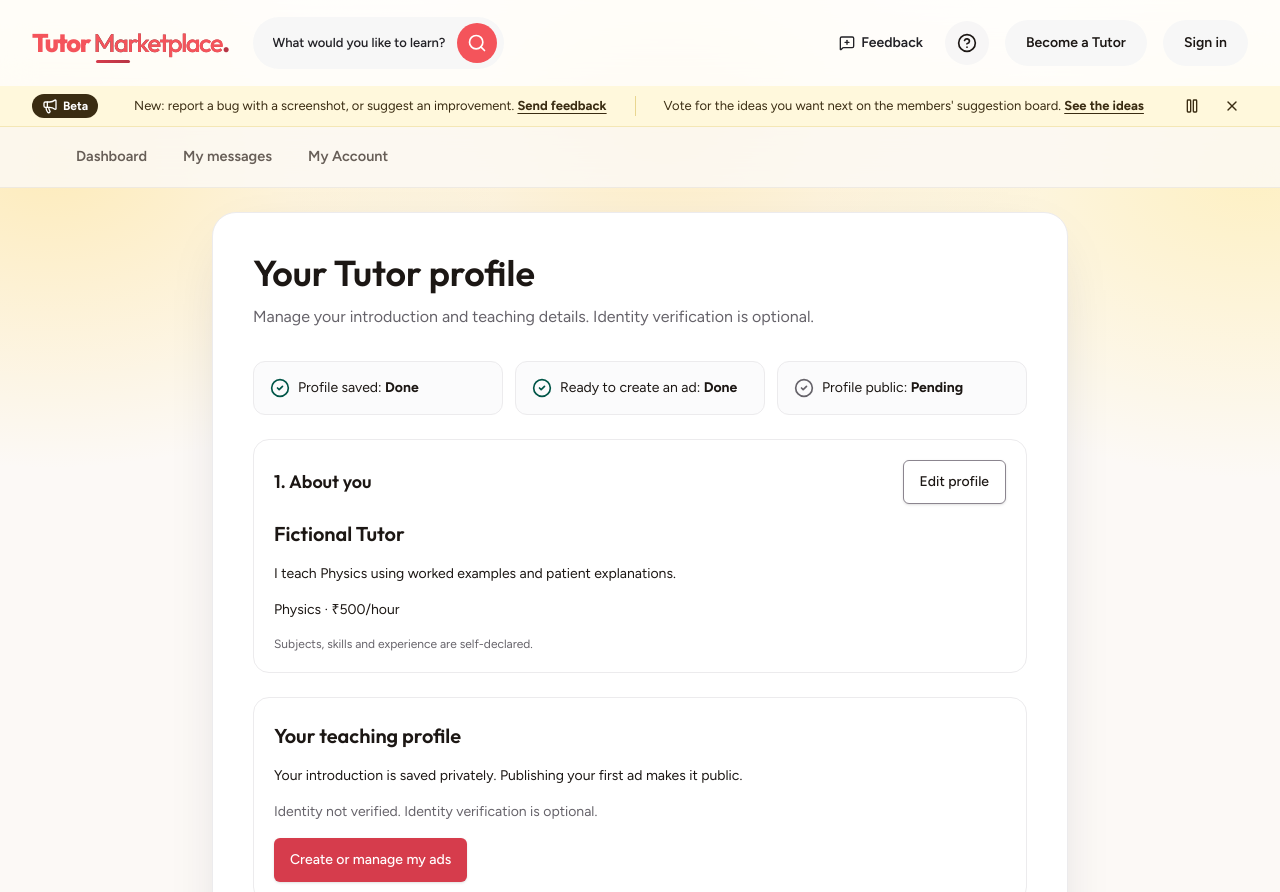
Test: keeps the editor open when a slower duplicate profile load finishes after Edit profile
Click the button "Edit profile".
click(954, 482)  # box [902,460,1006,504]
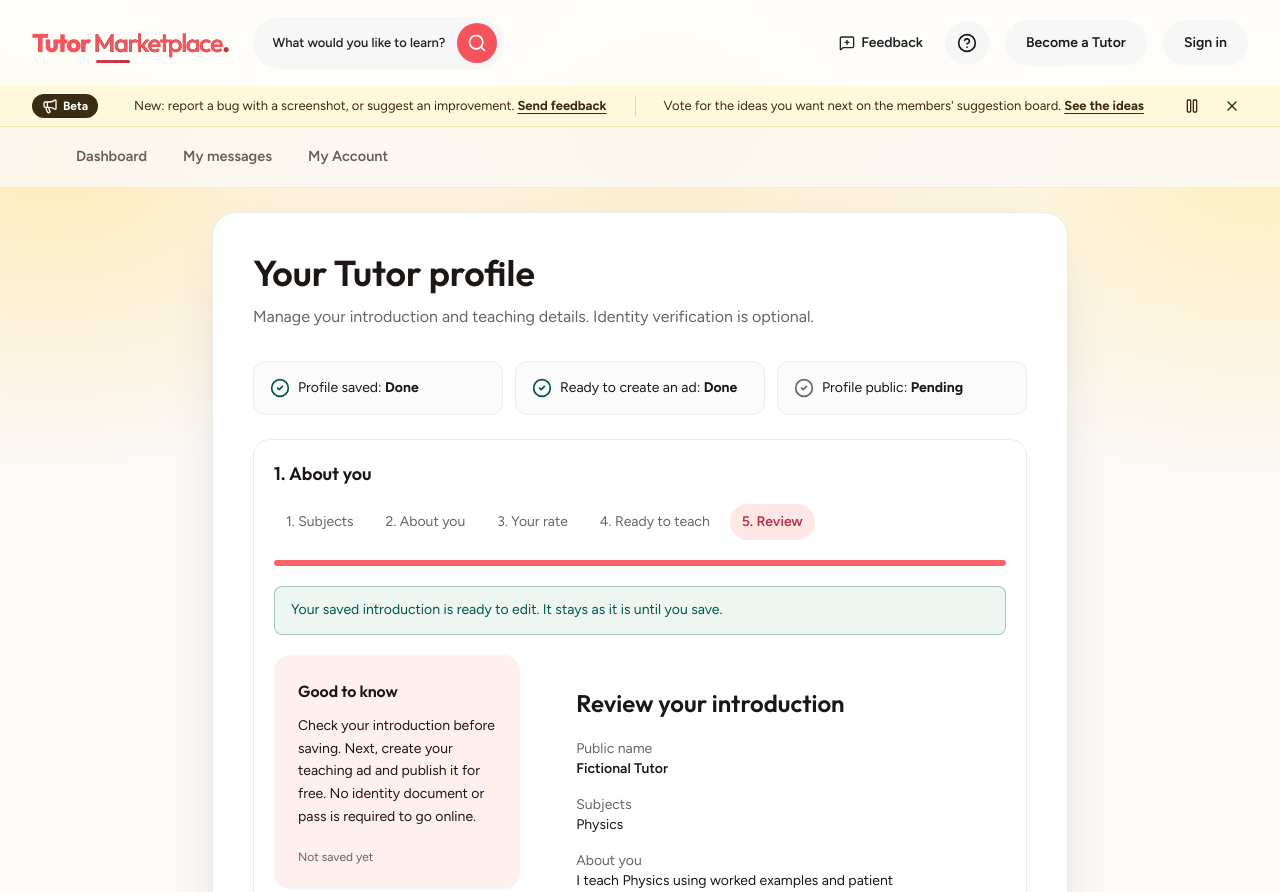
expect the button "Edit profile" is gone: met
